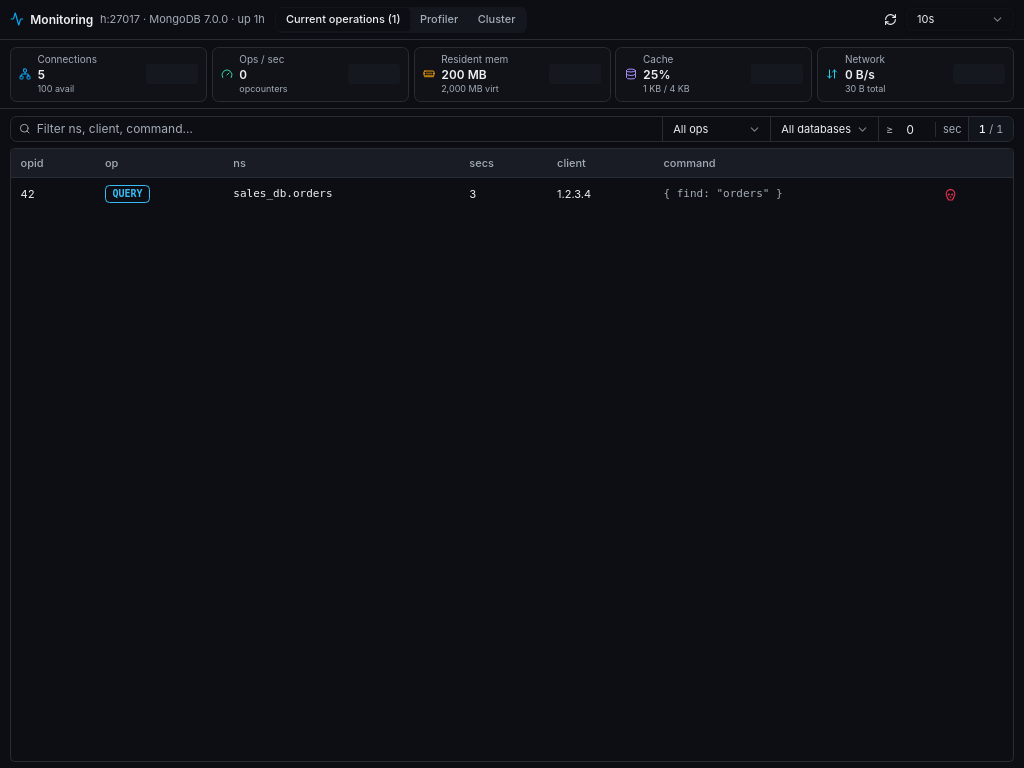
Test: MonitoringView › switches between the Current operations and Profiler tabs
This screenshot has width=1024, height=768.
Check: the table with test id "current-ops-table" is shown, box [11,149,1013,210]
Note: Switch to the Profiler tab.
Click the tab with test id "mon-tab-profiler" at (439,20), box [410,8,468,31]
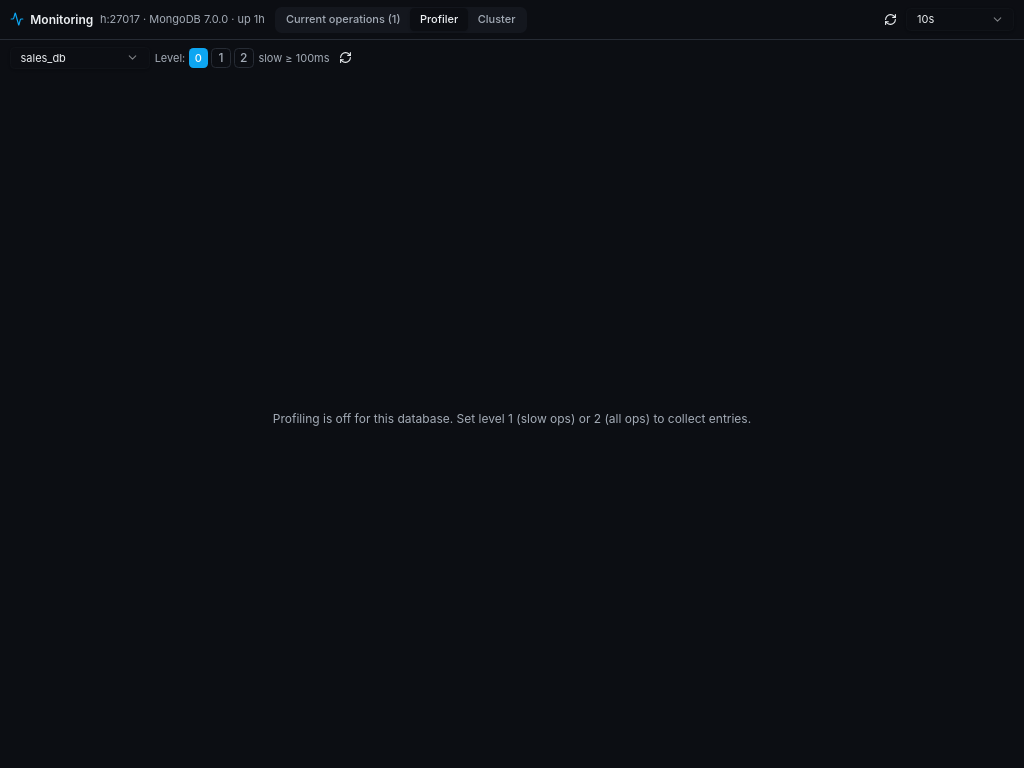
Check: the element with test id "mon-panel-profiler" is shown, box [10,46,751,426]
Check: the table with test id "current-ops-table" is gone
